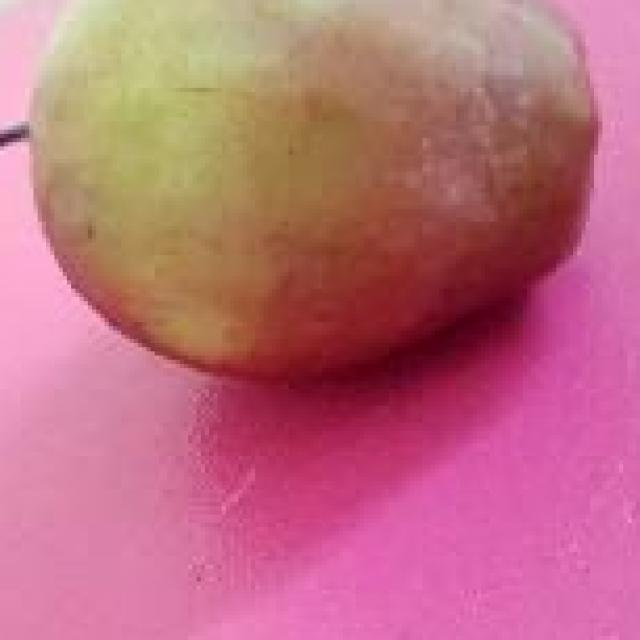Good_Apple 10-21 days: (36, 0, 598, 375)
